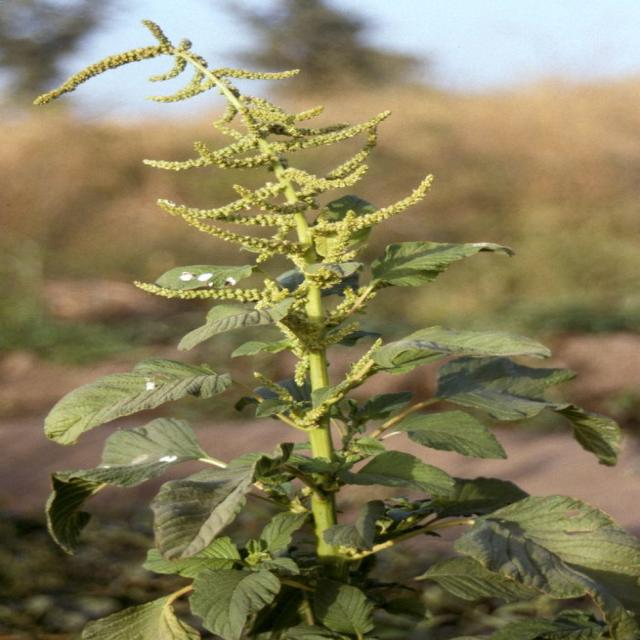Medicinal-Arive Dantu: (14, 17, 628, 640)
